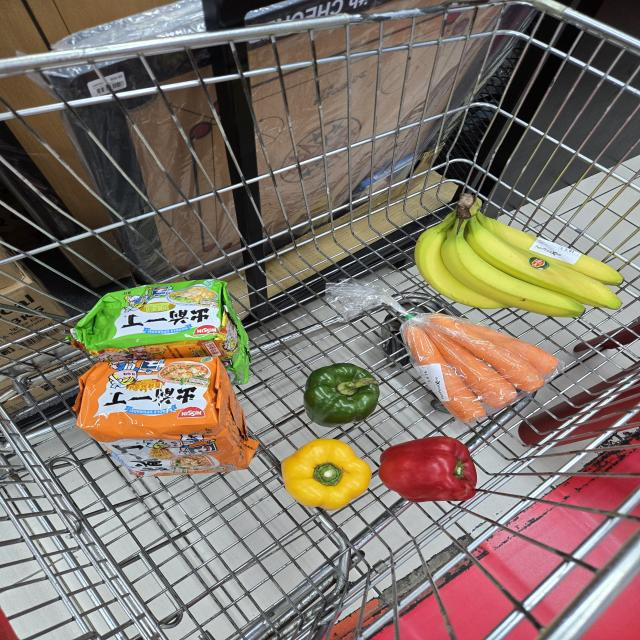banana: (407, 185, 630, 320)
bell-pepper: (378, 436, 492, 505), (282, 436, 376, 510), (301, 362, 381, 427)
carrot: (434, 306, 562, 382), (431, 318, 550, 392), (429, 318, 520, 411), (397, 329, 487, 416)
instant-noodle: (71, 355, 270, 481), (68, 282, 262, 393)
